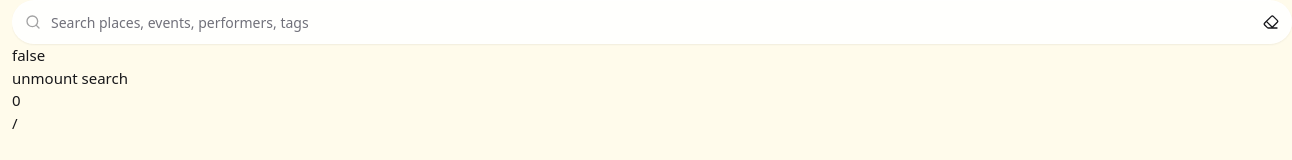
Test: SearchBar › shows a message when nothing matches
The image size is (1292, 160).
In the dropdown labelled "Search": (652, 22) [49,10,1255,34], type "zzz"
Wait 300 ms
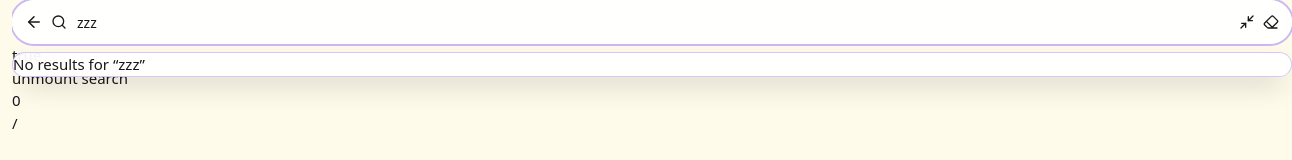
Check: the text "No results for “zzz”" is shown, box [13,54,145,74]
